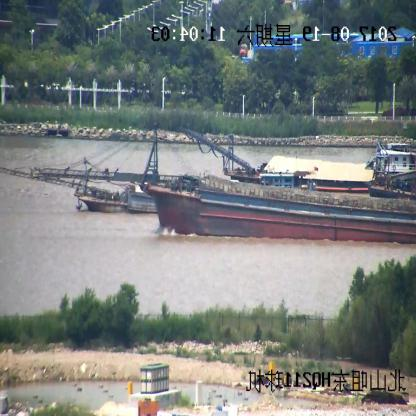Bulk Carrier: (44, 130, 415, 247)
